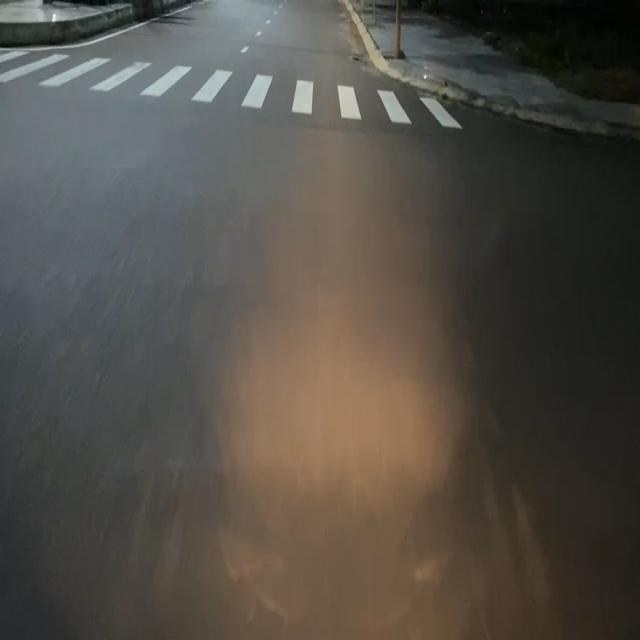walk-crossing: (0, 44, 461, 128)
